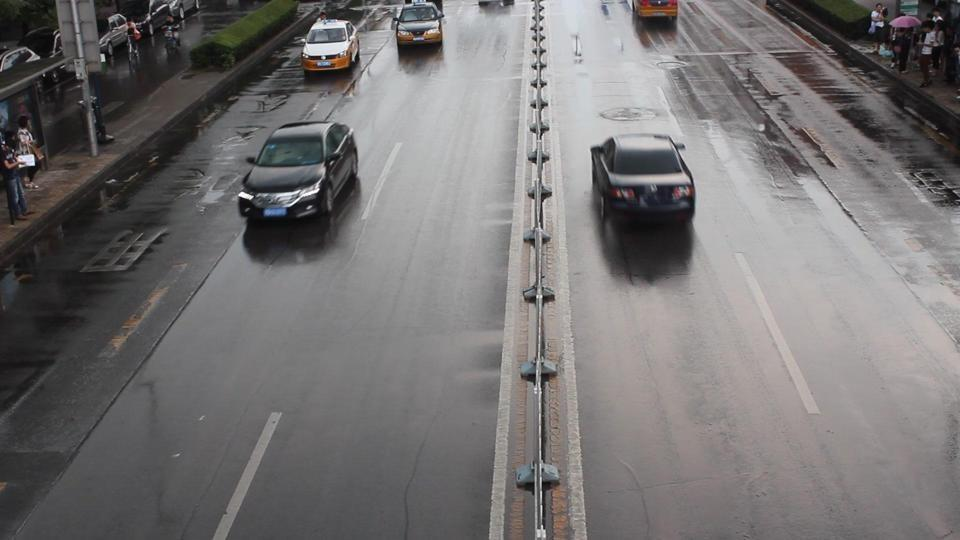car: (236, 120, 360, 221), (590, 132, 697, 226), (300, 17, 361, 73), (394, 2, 444, 46), (0, 46, 38, 75), (632, 0, 680, 22)
